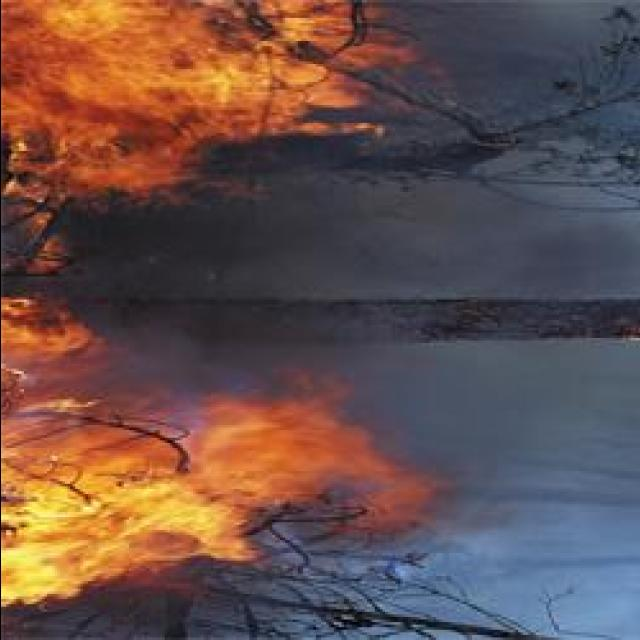fire: (0, 0, 186, 193), (0, 462, 238, 598), (173, 40, 342, 142)
smoke: (378, 340, 630, 454), (298, 215, 616, 300), (90, 196, 336, 280), (441, 0, 575, 98), (124, 328, 210, 390), (454, 488, 522, 552)
